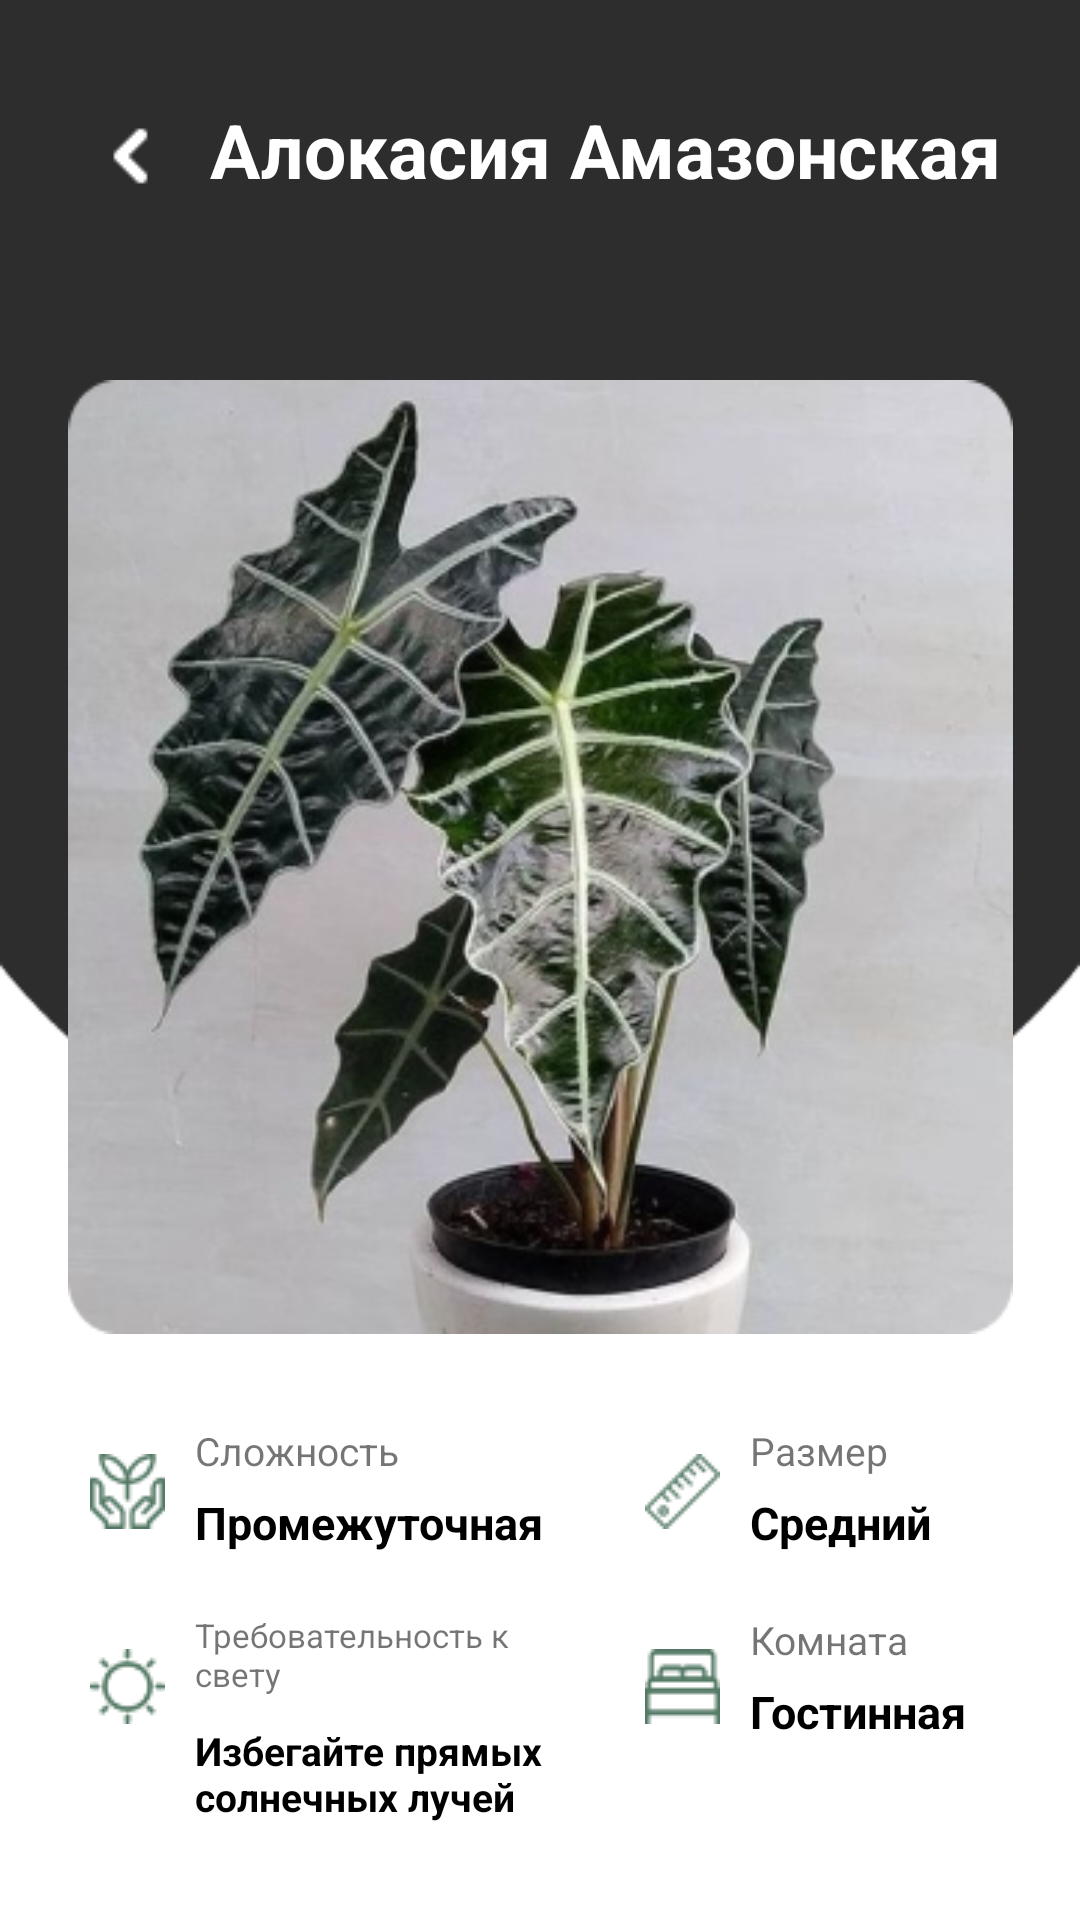

Where icons sit on this 1080px x 1920px app screen, as {"x1": x1, "y1": y1, "x2": x2, "y2": y2}:
plant chelovec: {"x1": 90, "y1": 1454, "x2": 165, "y2": 1529}
plant room: {"x1": 645, "y1": 1649, "x2": 720, "y2": 1724}
plant size: {"x1": 645, "y1": 1454, "x2": 720, "y2": 1529}
